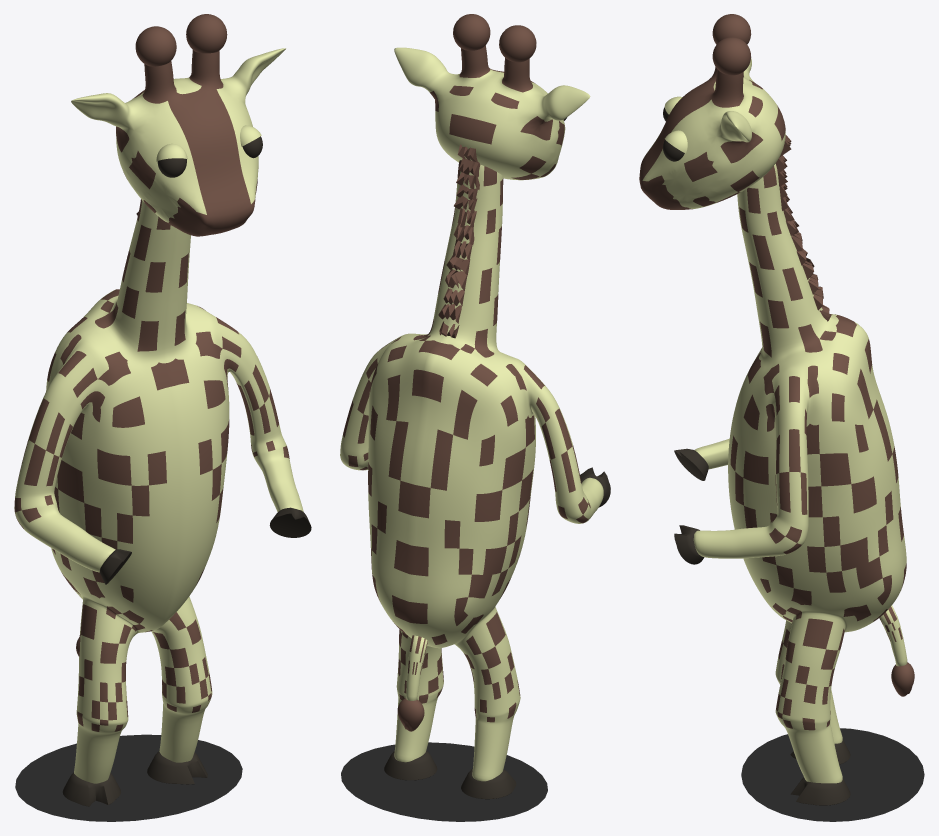
The model's file is giaffe.glb.
The picture shows the model from 3 angles, left to right: view 1: azimuth 30°, elevation 25°; view 2: azimuth 150°, elevation 25°; view 3: azimuth 270°, elevation 25°; orthographic projection. The views are drawn at different scales.
Parts seen in each view (by area): view 1: 立方体.018, 立方体.019, 円.004, 球.107, 円柱.094, 円柱.093, 球.108; view 2: 立方体.018, 立方体.019, 円.004, 球.107, 円柱.094, 球.106; view 3: 立方体.018, 立方体.019, 円.004, 球.107, 円柱.094, 球.106, 円柱.093, 球.108.
Boxes of the visible parts, left/top/right/bottom form: 立方体.018: left=14, top=199, right=303, bottom=783; 立方体.019: left=71, top=48, right=285, bottom=236; 円.004: left=15, top=734, right=242, bottom=821; 球.107: left=135, top=14, right=227, bottom=66; 円柱.094: left=62, top=751, right=207, bottom=806; 円柱.093: left=99, top=507, right=311, bottom=584; 球.108: left=156, top=125, right=262, bottom=177; 立方体.018: left=340, top=160, right=603, bottom=781; 立方体.019: left=394, top=45, right=590, bottom=180; 円.004: left=341, top=742, right=547, bottom=821; 球.107: left=453, top=14, right=536, bottom=62; 円柱.094: left=384, top=750, right=516, bottom=799; 球.106: left=397, top=635, right=427, bottom=731; 立方体.018: left=693, top=164, right=906, bottom=783; 立方体.019: left=639, top=58, right=785, bottom=209; 円.004: left=741, top=728, right=924, bottom=821; 球.107: left=712, top=14, right=751, bottom=75; 円柱.094: left=790, top=740, right=850, bottom=805; 球.106: left=879, top=605, right=914, bottom=696; 円柱.093: left=674, top=448, right=708, bottom=564; 球.108: left=663, top=96, right=687, bottom=161.
Size of the model in its own units: 1.44 by 4.08 by 1.41.
